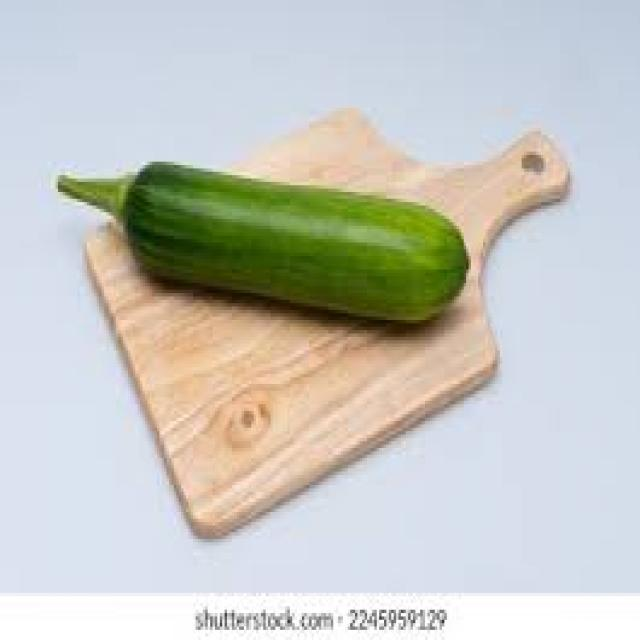yogurt: (56, 142, 486, 360)
